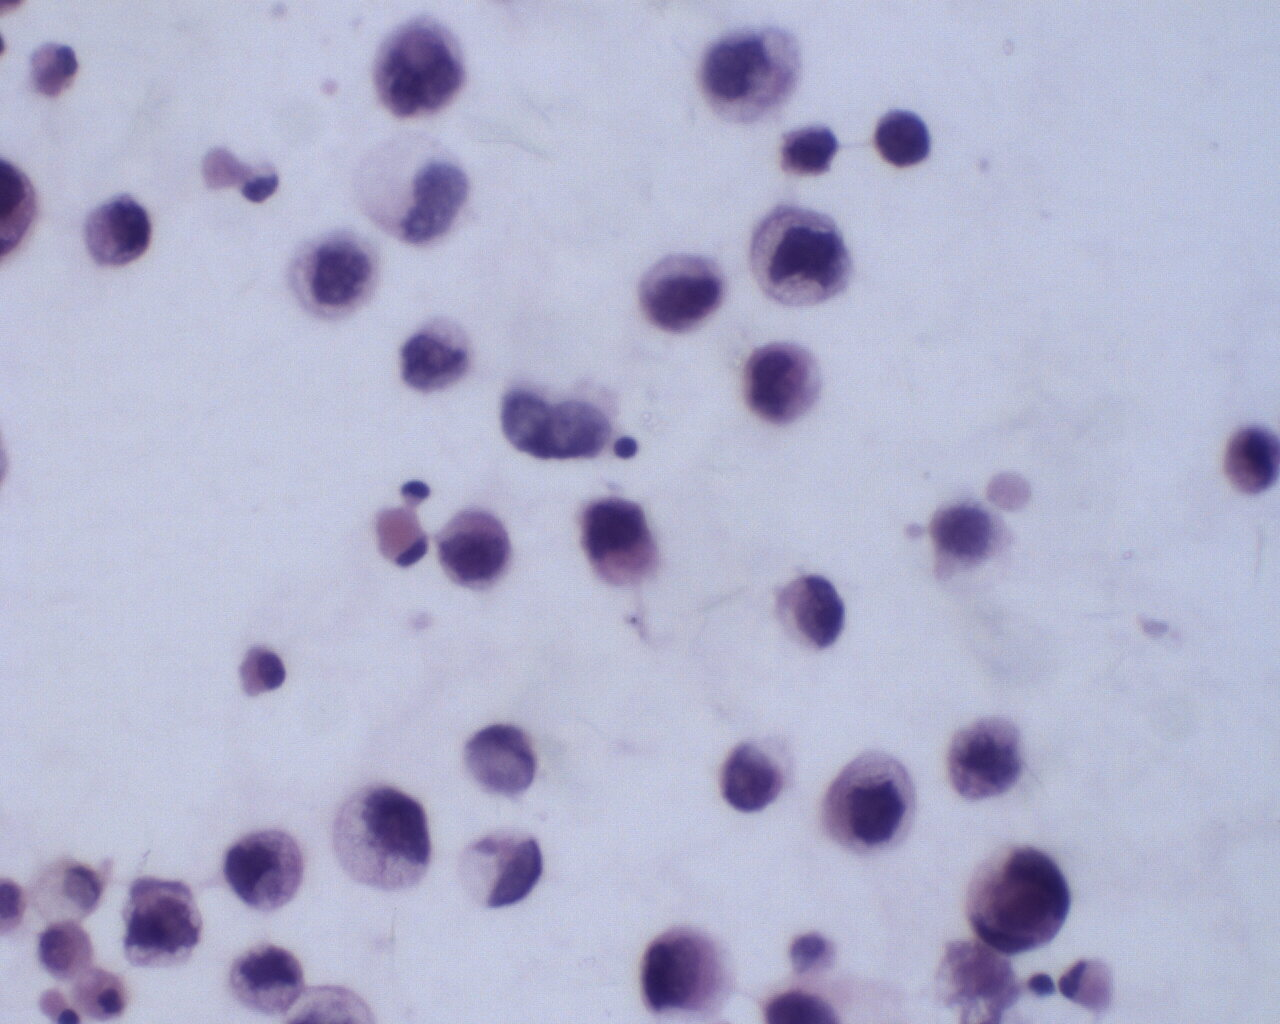ab: (813, 745, 932, 859), (953, 839, 1073, 952), (744, 200, 853, 312), (329, 783, 436, 893), (285, 223, 388, 327), (641, 916, 738, 1023), (737, 334, 829, 437), (576, 488, 665, 594), (635, 248, 732, 338), (432, 505, 519, 597), (222, 827, 313, 910), (224, 934, 311, 1020), (397, 309, 479, 399), (771, 571, 855, 655), (76, 191, 156, 276)
lymph: (609, 430, 644, 464)
